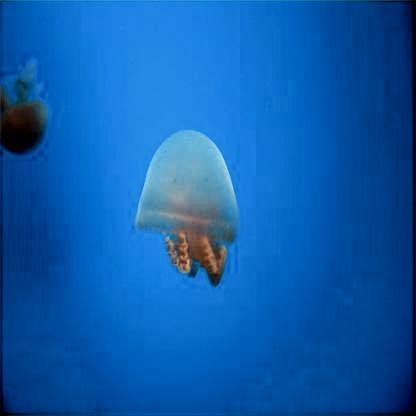Handstand: (135, 127, 243, 285), (4, 64, 52, 156)
